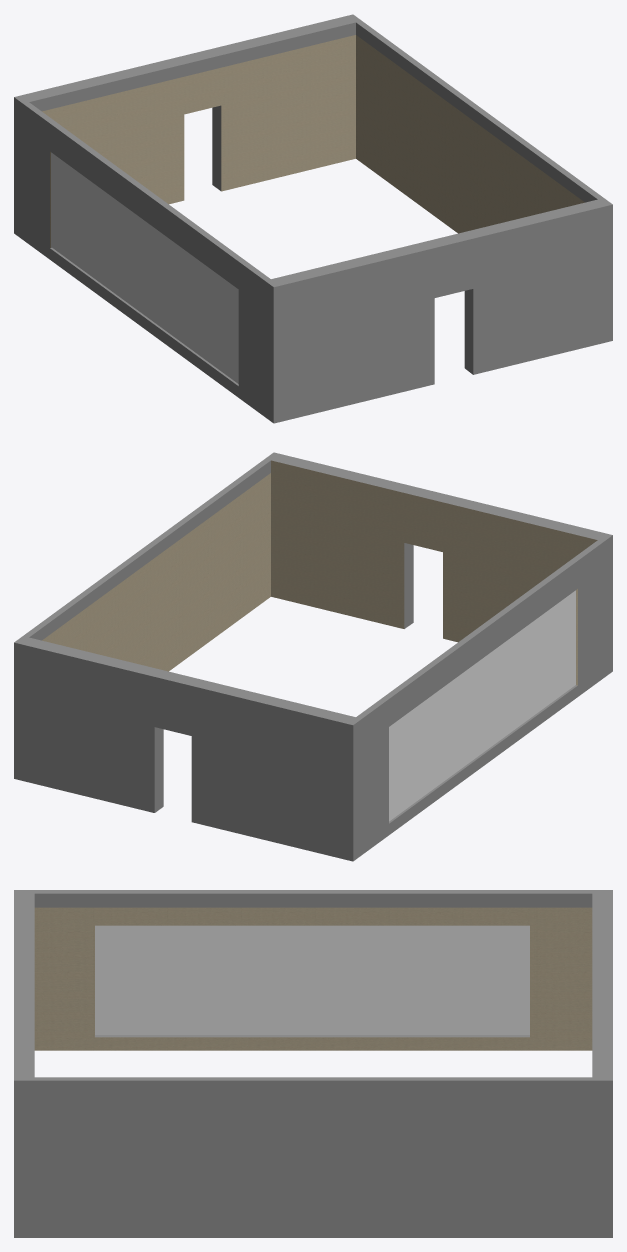
Rendered from walls.FBX.
3 renders of one model, top to bottom at view 1: azimuth 30°, elevation 25°; view 2: azimuth 150°, elevation 25°; view 3: azimuth 270°, elevation 25°, orthographic. The views are drawn at different scales.
Parts seen in each view (by area): view 1: Walls, Window; view 2: Walls, Window; view 3: Walls, Window.
Boxes of the visible parts, x1,y1,x2,y2 form: Walls: [14, 14, 612, 423]; Window: [51, 152, 238, 383]; Walls: [14, 452, 612, 861]; Window: [389, 590, 575, 821]; Walls: [14, 890, 612, 1237]; Window: [95, 925, 529, 1034].
Size of the model in its own units: 275 by 106 by 365.
Materials: 7 (1 with a texture image).
